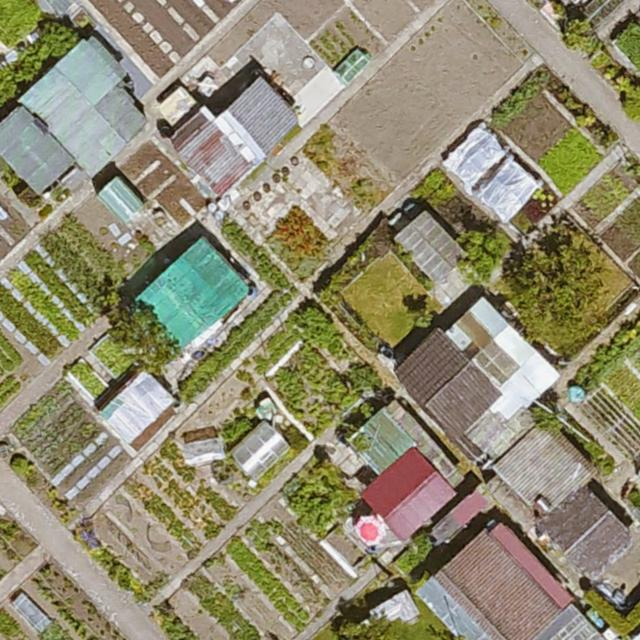tree: (503, 227, 606, 335), (108, 302, 176, 359), (332, 615, 407, 640), (42, 23, 80, 54), (13, 43, 48, 76), (0, 66, 19, 110)
